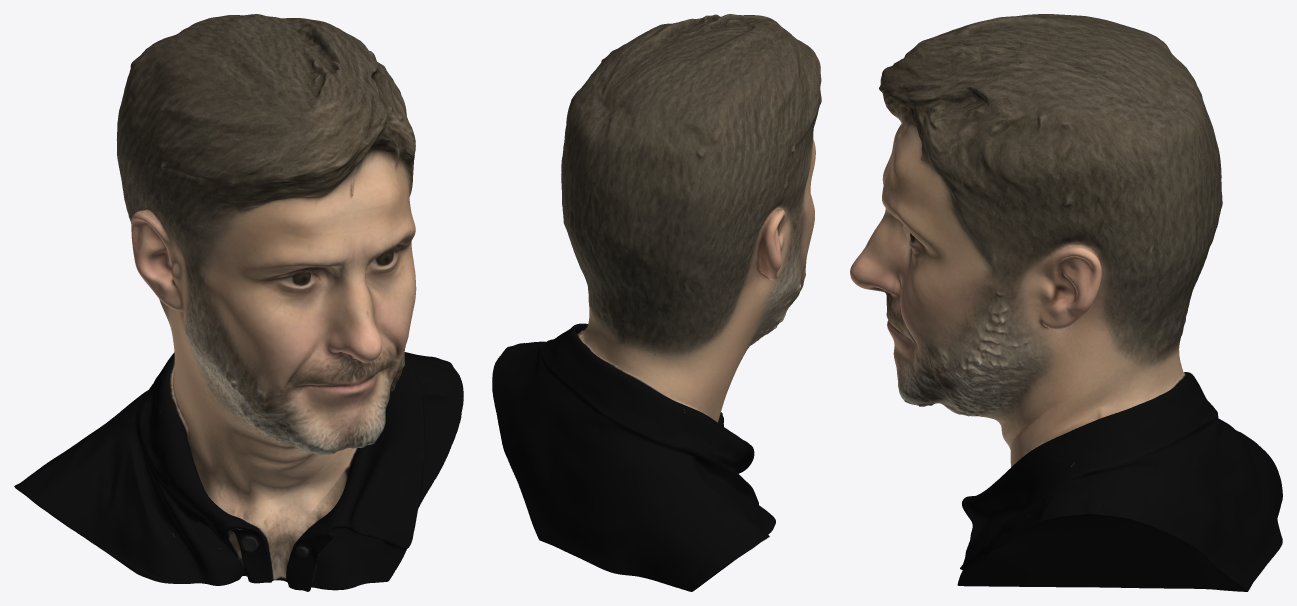
Rendered from Meshy_AI_Steadfast_Portrait_0915160627_texture.glb.
3 views of the same model, side by side, from view 1: azimuth 30°, elevation 25°; view 2: azimuth 150°, elevation 25°; view 3: azimuth 270°, elevation 25° (orthographic). The views are drawn at different scales.
Size of the model in its own units: 1.35 by 1.9 by 1.43.
1 material, 1 textured.
